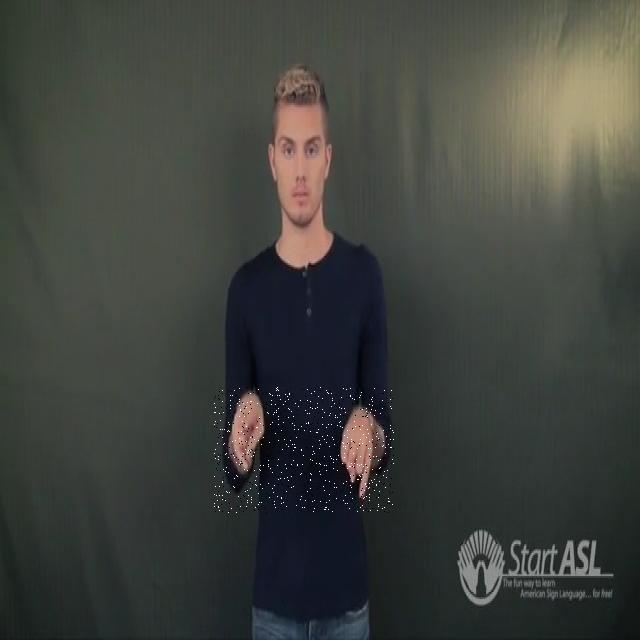eggs: (214, 388, 394, 514)
